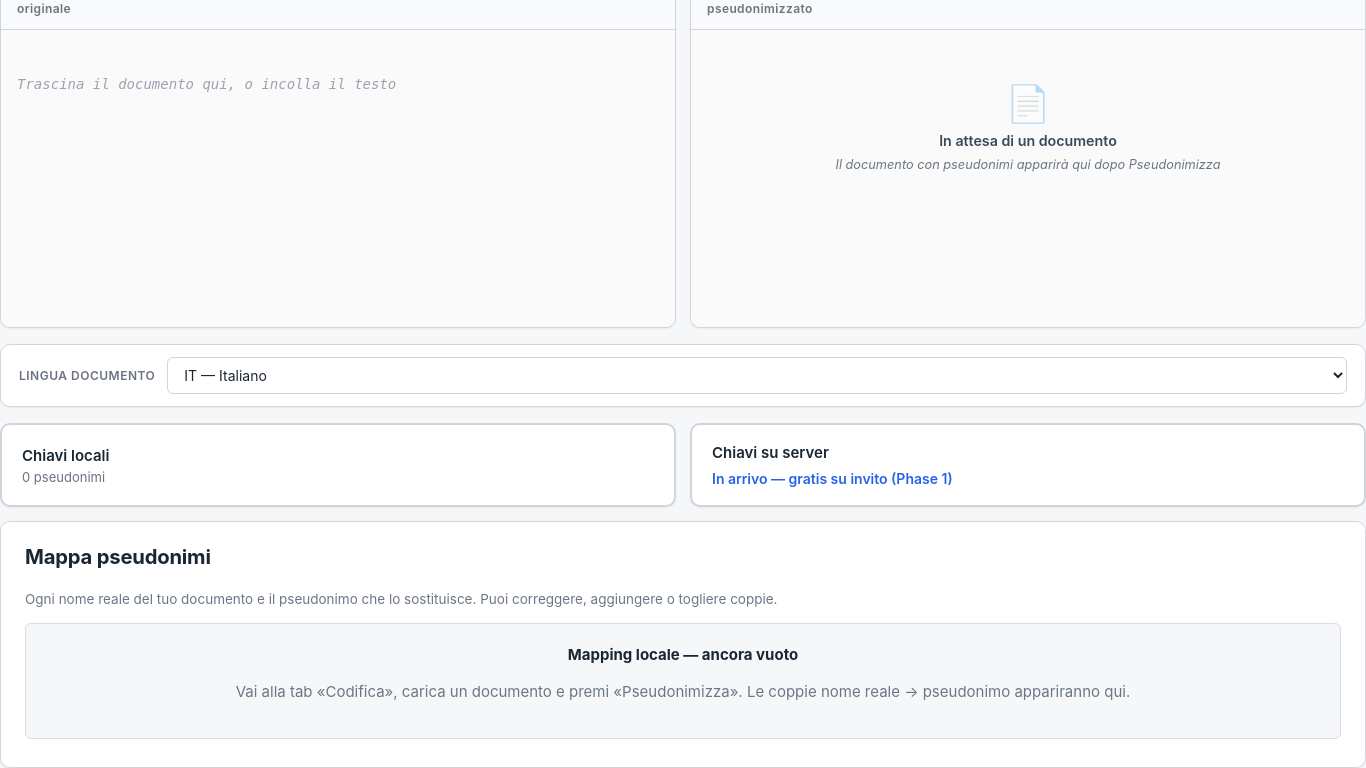
it: WireframeWorkArea — Mappa cards + modal › modal closes via × button
(page scrolled)
Click the button with test id "wireframe-card-server".
click(770, 453)  # box [690, 423, 1365, 507]
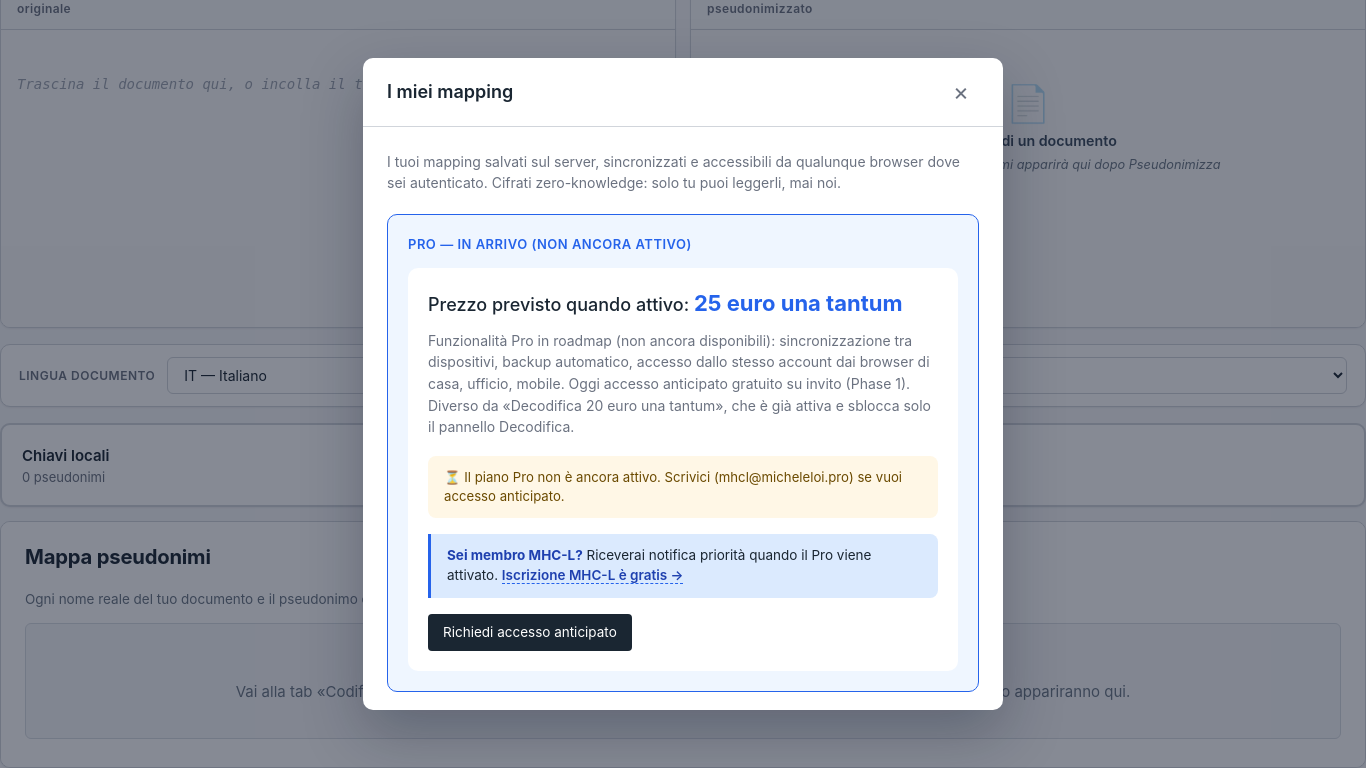
Click the button with test id "wireframe-modal-close".
click(961, 92)  # box [943, 76, 979, 108]
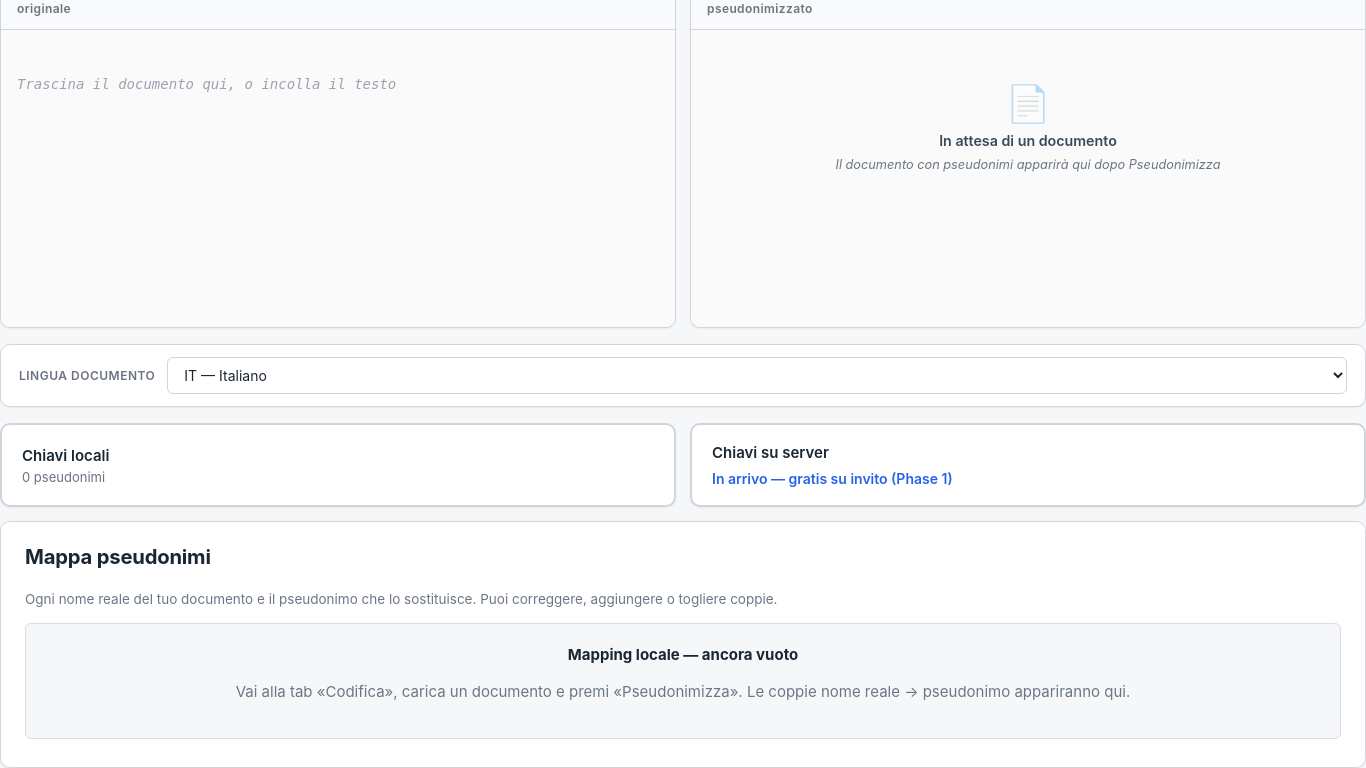
Result: the element with test id "wireframe-modal-backdrop" is gone
